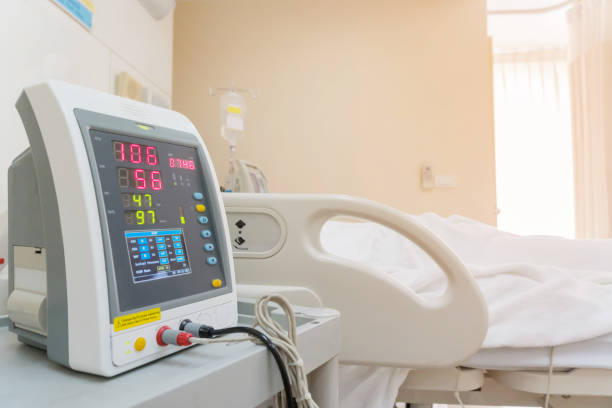bedrail: (218, 188, 492, 370)
bedside_monitor: (12, 82, 246, 379)
curtain: (566, 1, 612, 232)
hospital_bed: (214, 194, 612, 408)
iv_pole: (206, 82, 260, 190)
